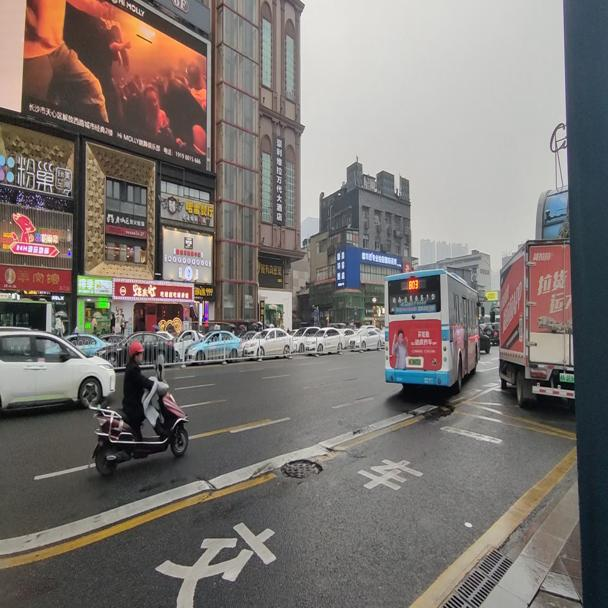bus: (383, 267, 484, 390)
screen: (407, 279, 418, 288)
